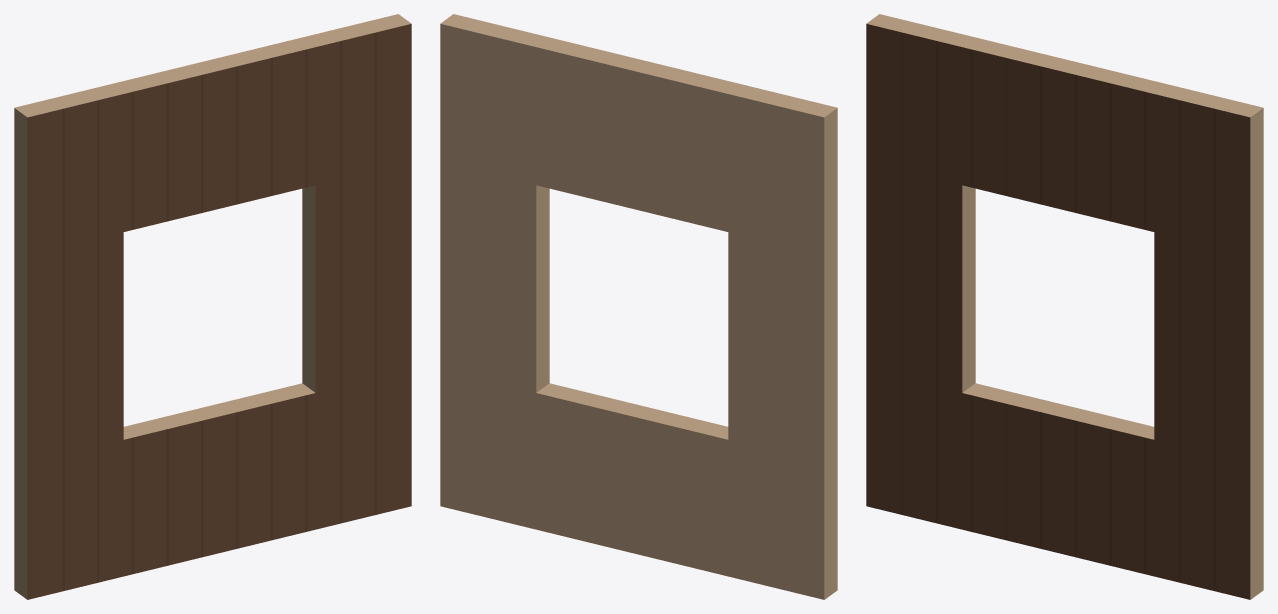
File: Wall3_C9_04.fbx
3 renders of one model, left to right at view 1: azimuth 30°, elevation 25°; view 2: azimuth 150°, elevation 25°; view 3: azimuth 330°, elevation 25°, orthographic.
Visible parts, largest first — view 1: Wall3_C9_04; view 2: Wall3_C9_04; view 3: Wall3_C9_04.
Boxes of the visible parts, bbox=[...] form: Wall3_C9_04: bbox=[14, 14, 411, 599]; Wall3_C9_04: bbox=[440, 14, 837, 599]; Wall3_C9_04: bbox=[866, 14, 1263, 599].
Size of the model in its own units: 250 by 300 by 15.
